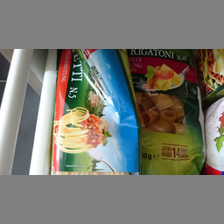pasta: (52, 50, 142, 175), (128, 50, 205, 174)
